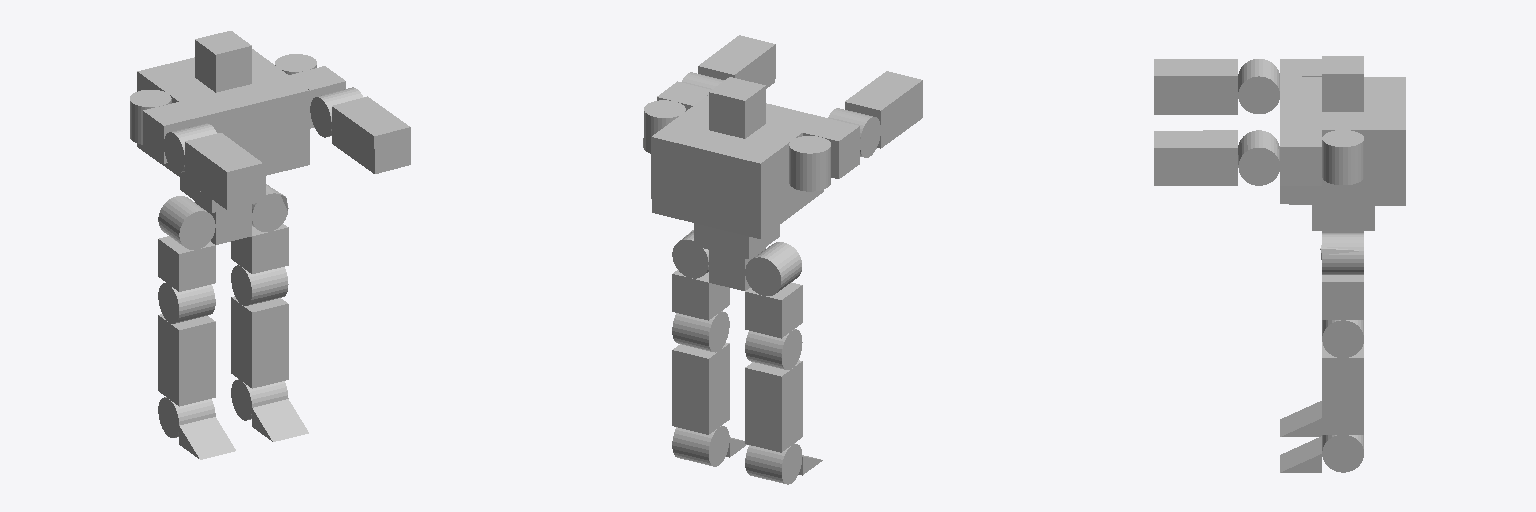
Rendered from PlayerEX.obj.
3 views of the same model, side by side, from view 1: azimuth 30°, elevation 25°; view 2: azimuth 150°, elevation 25°; view 3: azimuth 270°, elevation 25° (orthographic).
Visible parts, largest first — view 1: Cube.001; view 2: Cube.001; view 3: Cube.001.
Boxes of the visible parts, x1=… form: Cube.001: x1=130, y1=31, x2=410, y2=459; Cube.001: x1=643, y1=35, x2=922, y2=484; Cube.001: x1=1154, y1=56, x2=1405, y2=472.
Bounding box in the file's own units: 5.06 × 10 × 6.